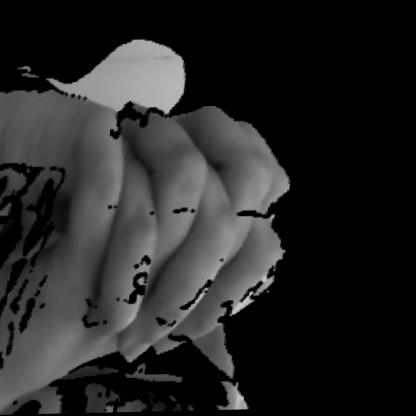prayer: (0, 56, 343, 396)
